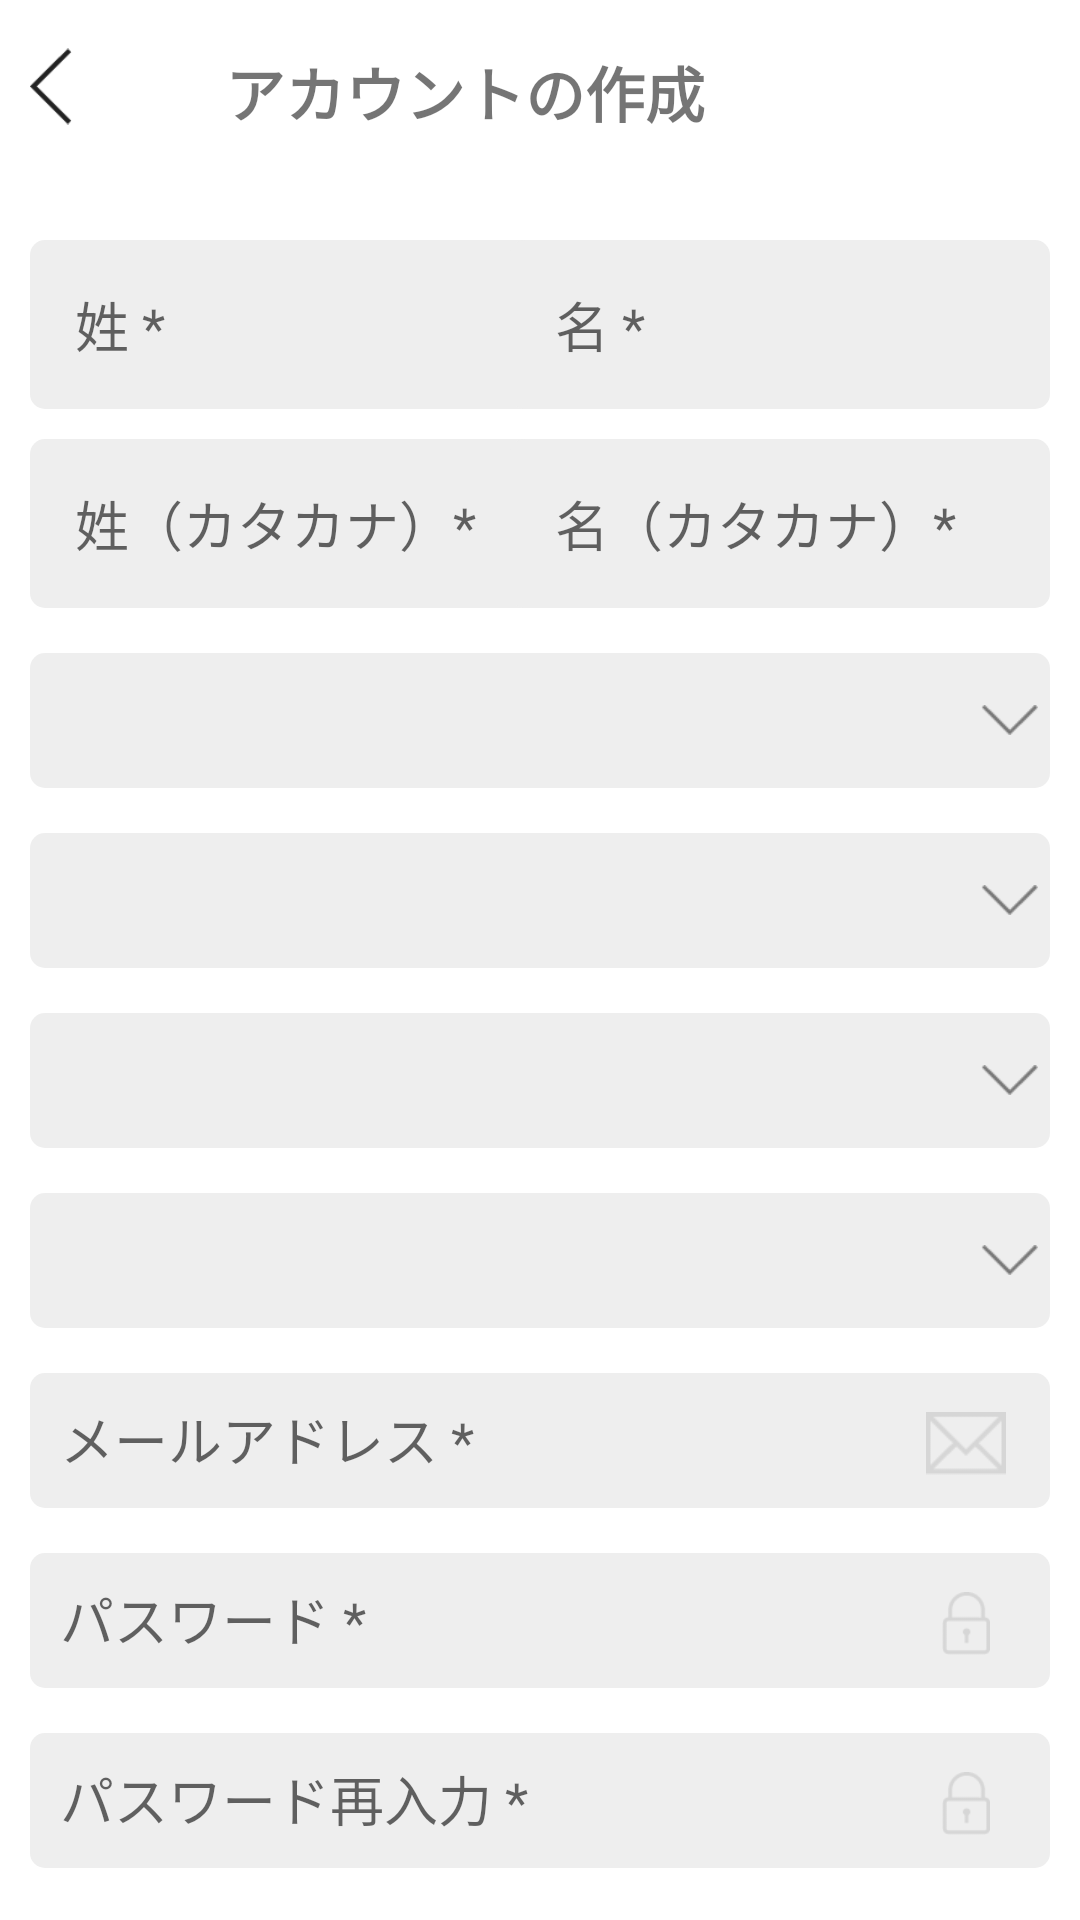

Named icons in this screenshot (1080*1920) and their centers, [x,y]:
back: [50,86]
